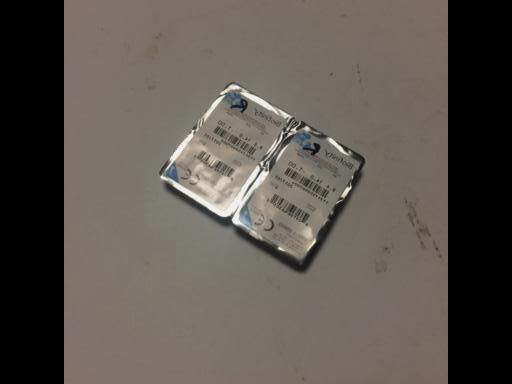trash: (159, 81, 366, 278)
